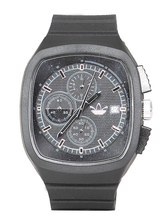watch: (14, 10, 156, 217)
